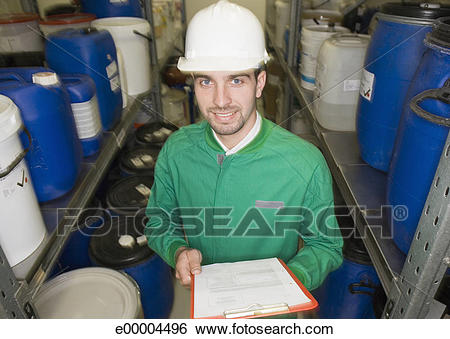Person_wearing_helmet: (183, 1, 271, 99)
